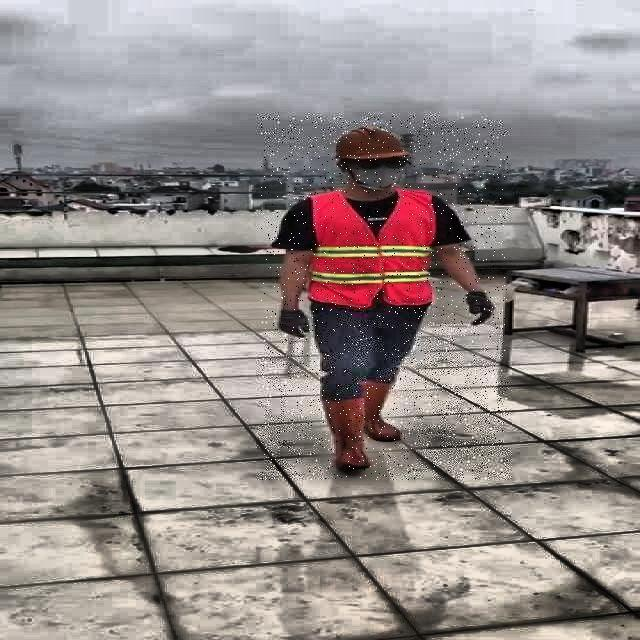safety_helmet: (331, 123, 414, 162)
safety_jacket: (309, 186, 439, 306)
